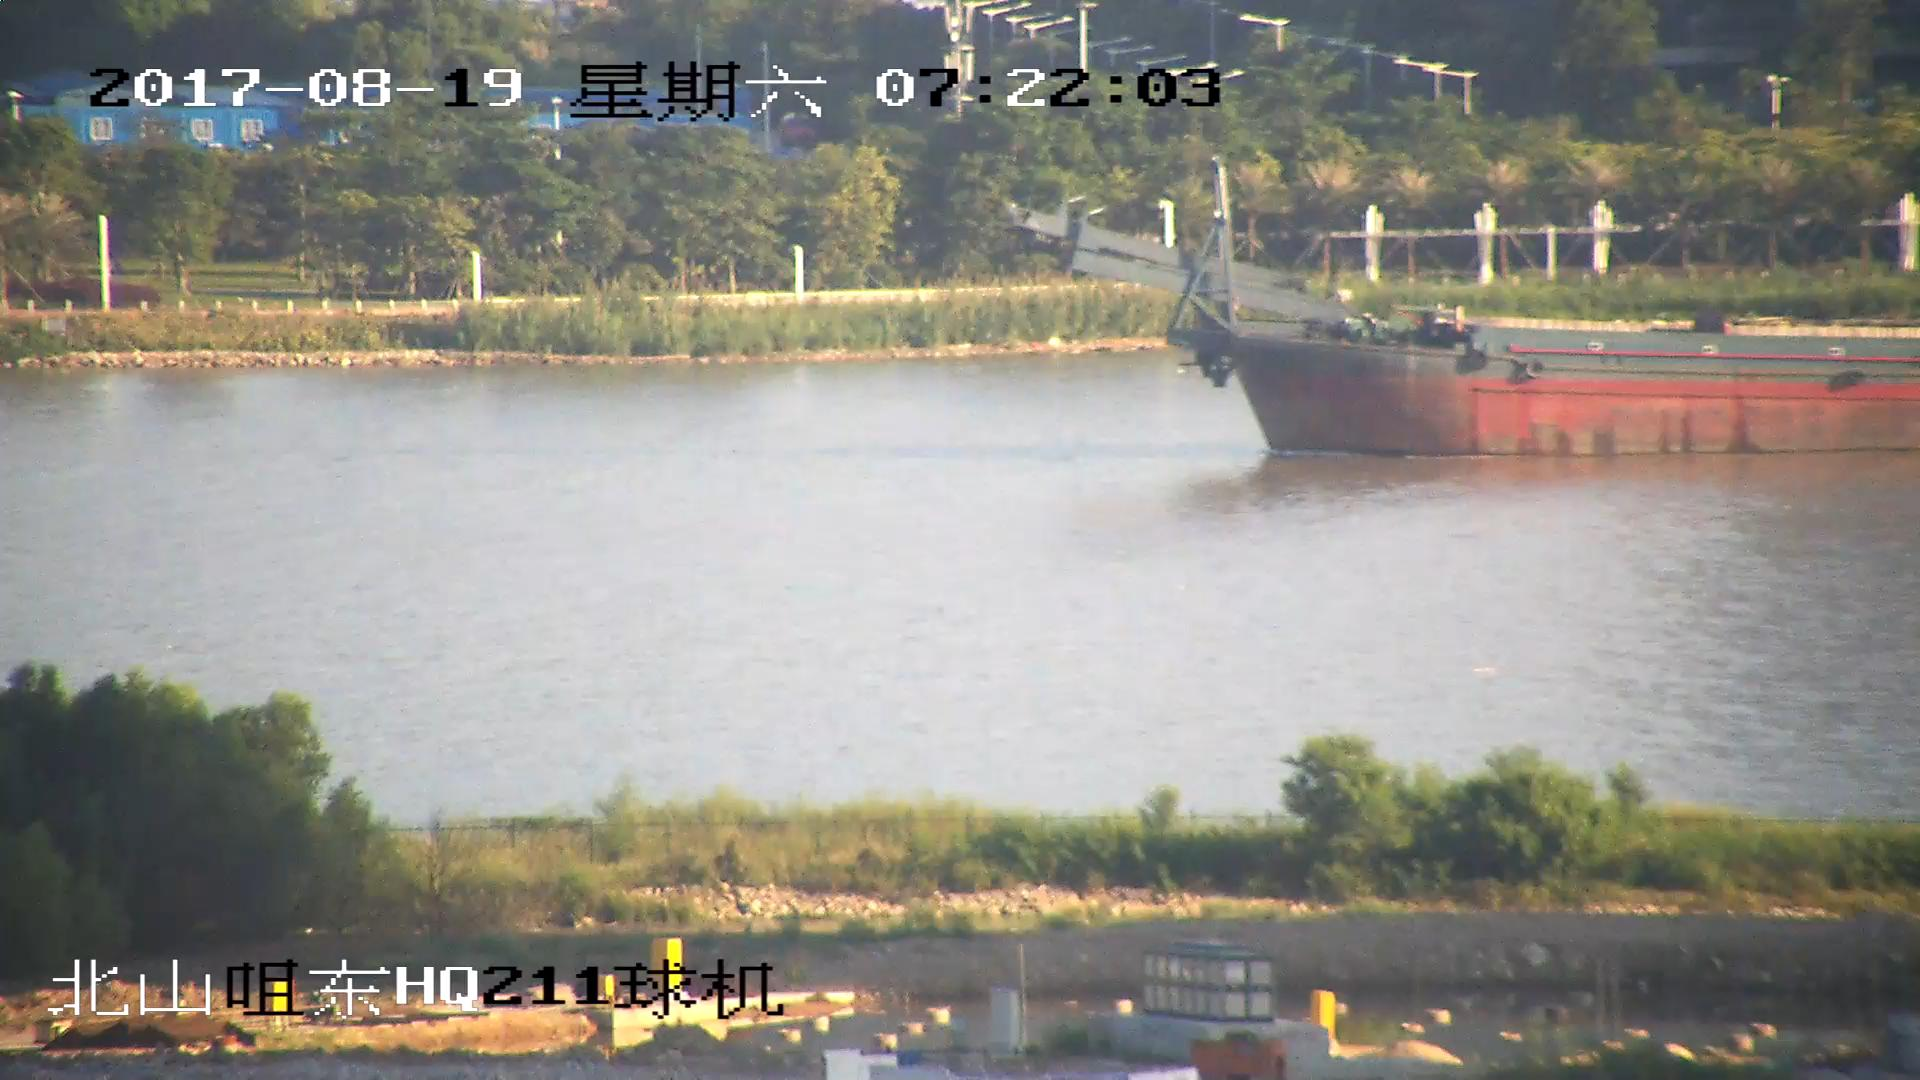bulk cargo carrier: (1009, 164, 1920, 455)
